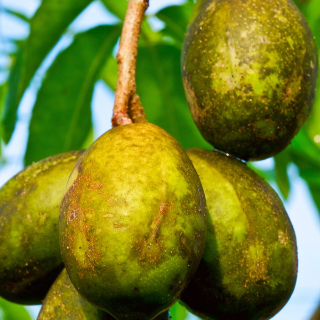coc: (59, 123, 206, 320)
